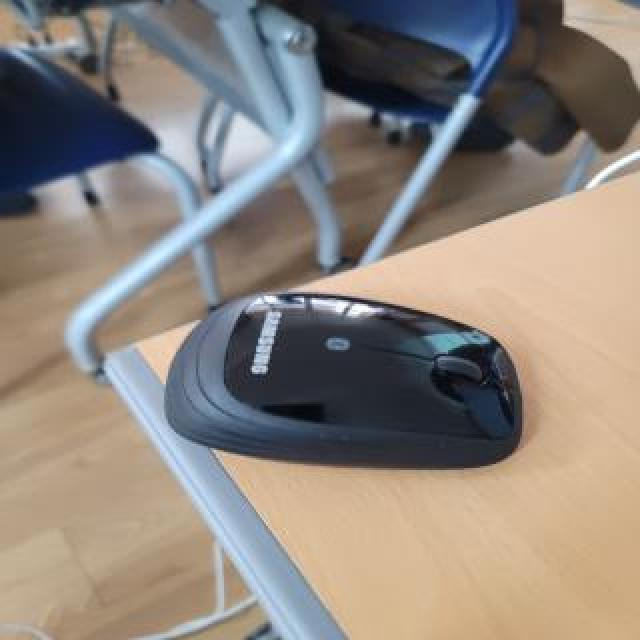mouse: (144, 284, 539, 478)
